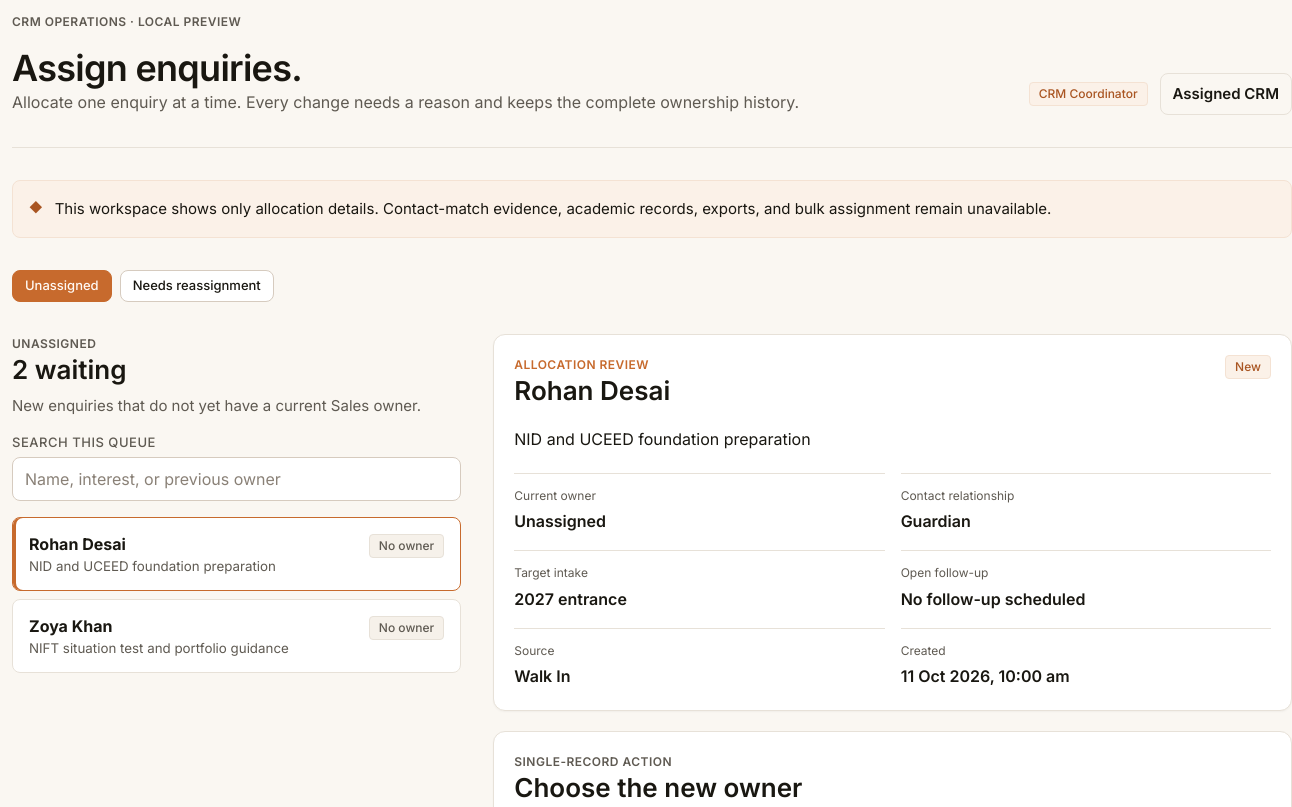
Test case: CrmAssignmentPage › explains inactive-owner recovery without restoring prior access
What coordinates should you click on to do the following:
click the button "Needs reassignment"
I would click on:
 (197, 286)
Its box is [120,270,274,302].
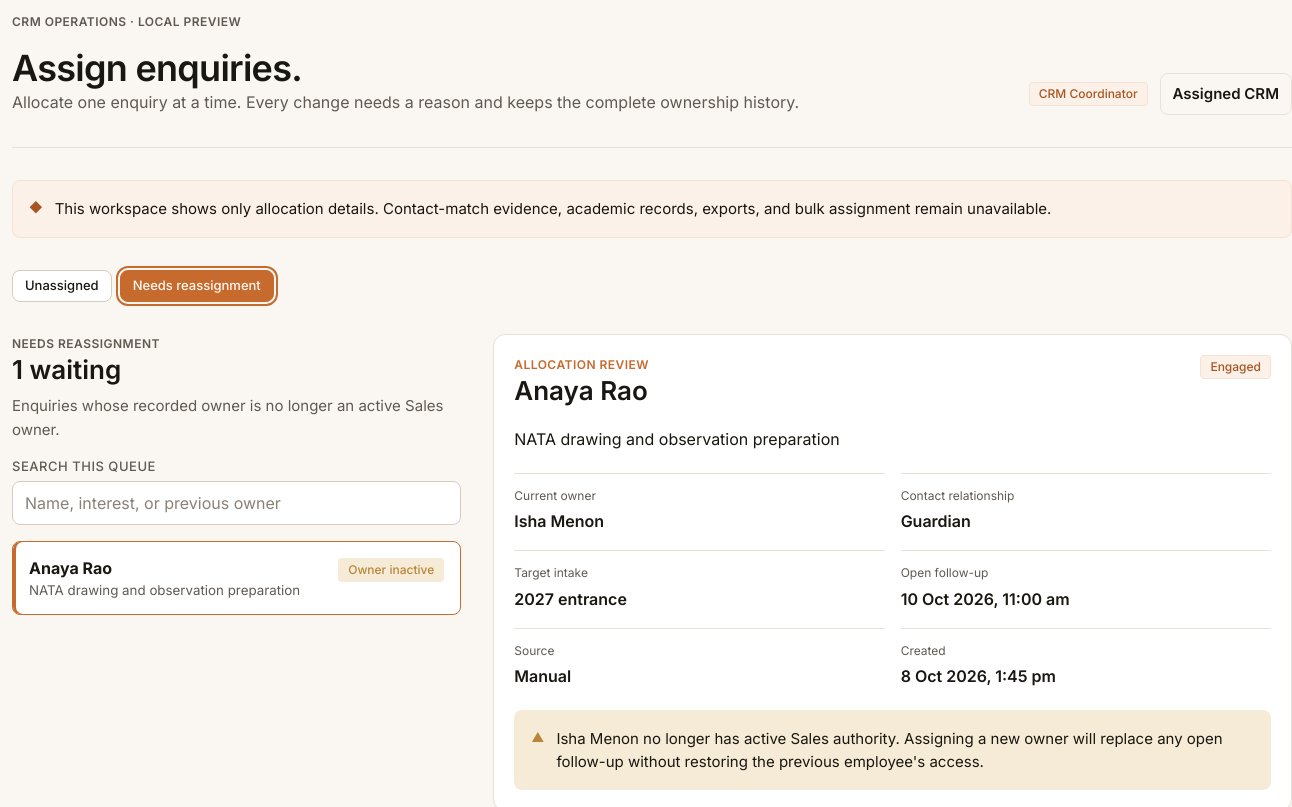
Expected: the heading "Anaya Rao" is shown, [514,374,649,407]
Expected: the text "Isha Menon" is shown, [514,511,604,531]
Expected: the text "without restoring the previous employee's access" is shown, [556,729,1223,771]
